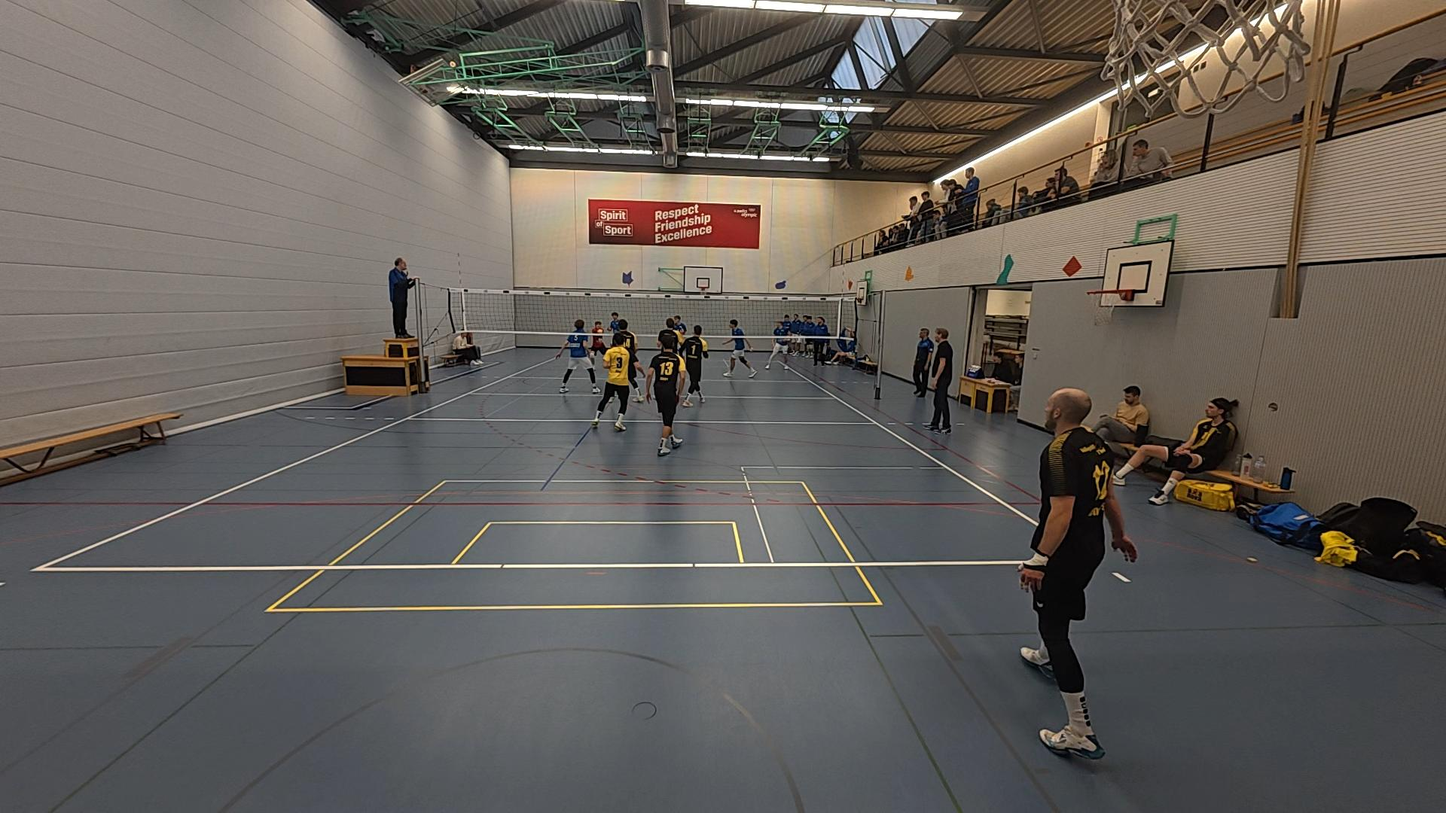Player: (1020, 387, 1141, 758), (646, 337, 686, 457), (592, 329, 636, 432), (559, 319, 601, 394), (681, 323, 709, 406), (722, 321, 758, 377), (761, 315, 796, 370)
Receive: (584, 313, 612, 375)
ball: (901, 264, 916, 281), (590, 331, 602, 343)
